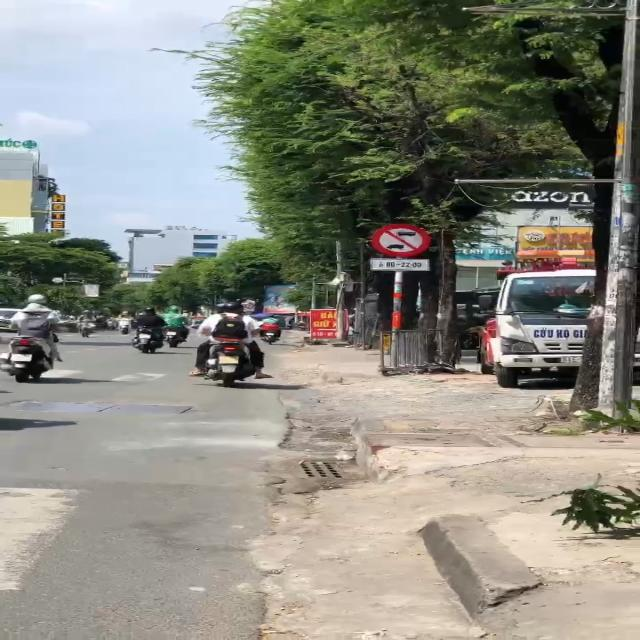Bien bao cam xe oto khach va xe oto tai: (369, 222, 433, 260)
